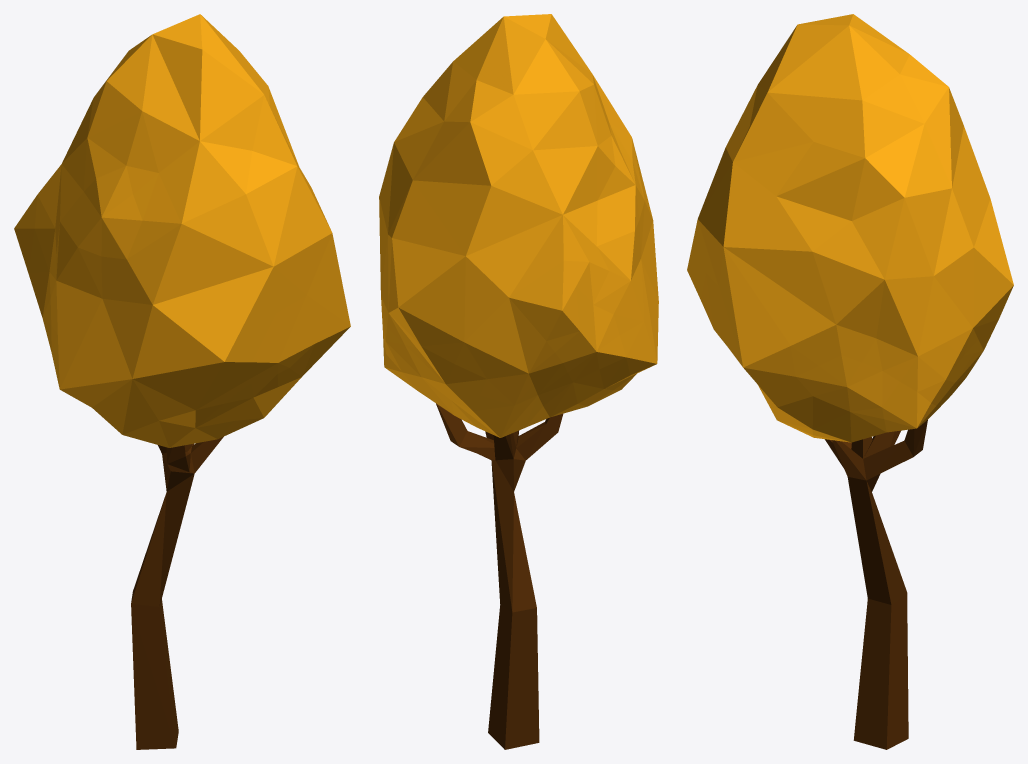
Rendered from Arvore01.fbx.
The picture shows the model from 3 angles, left to right: view 1: azimuth 30°, elevation 25°; view 2: azimuth 150°, elevation 25°; view 3: azimuth 270°, elevation 25°; orthographic projection. The views are drawn at different scales.
Visible parts, largest first — view 1: Cube.006; view 2: Cube.006; view 3: Cube.006.
Part boxes in pixels (x1=…): Cube.006: x1=14, y1=14, x2=350, y2=749; Cube.006: x1=379, y1=14, x2=658, y2=749; Cube.006: x1=687, y1=14, x2=1013, y2=749.
Size of the model in its own units: 225 by 602 by 245.
